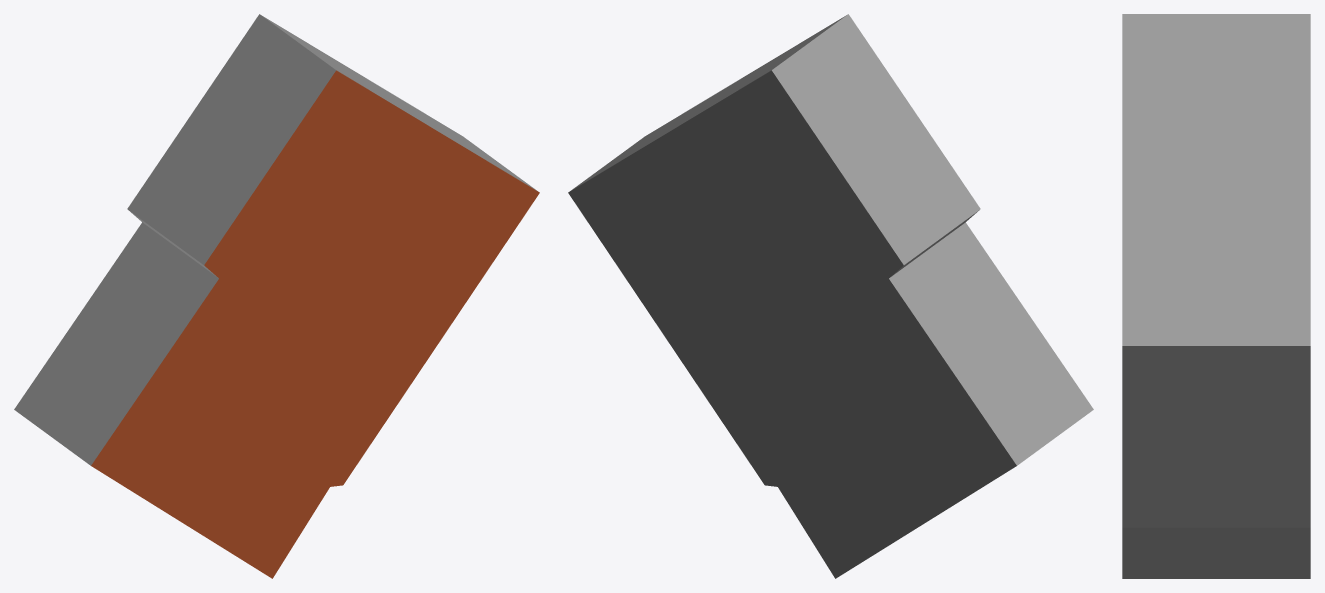
Rendered from construction_5589_assumed_A_Casa_h6m.obj.
3 views of the same model, side by side, from view 1: azimuth 30°, elevation 25°; view 2: azimuth 150°, elevation 25°; view 3: azimuth 270°, elevation 25° (orthographic). The views are drawn at different scales.
Visible parts, largest first — view 1: construction_5589_assumed_A_Casa; view 2: construction_5589_assumed_A_Casa; view 3: construction_5589_assumed_A_Casa.
Boxes of the visible parts, bbox=[...] form: construction_5589_assumed_A_Casa: bbox=[14, 14, 539, 578]; construction_5589_assumed_A_Casa: bbox=[568, 14, 1093, 578]; construction_5589_assumed_A_Casa: bbox=[1122, 14, 1310, 578].
Size of the model in its own units: 20.23 by 21.23 by 6.
